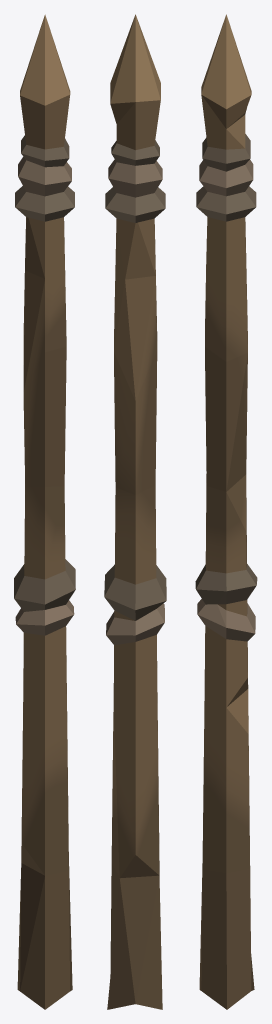
Rendered from SM_Prop_Flag_Post_03.fbx.
The picture shows the model from 3 angles, left to right: view 1: azimuth 90°, elevation 25°; view 2: azimuth 150°, elevation 25°; view 3: azimuth 330°, elevation 25°; orthographic projection.
Visible parts, largest first — view 1: SM_Prop_Flag_Post_03; view 2: SM_Prop_Flag_Post_03; view 3: SM_Prop_Flag_Post_03.
Part boxes in pixels (x1=…): SM_Prop_Flag_Post_03: x1=14, y1=14, x2=75, y2=1009; SM_Prop_Flag_Post_03: x1=104, y1=14, x2=166, y2=1009; SM_Prop_Flag_Post_03: x1=195, y1=14, x2=257, y2=1009.
Bounding box in the file's own units: 15.65 × 240 × 13.64.
